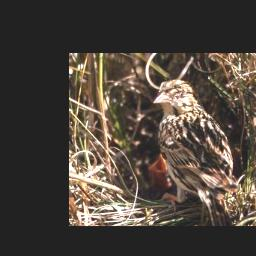Sparrow: (151, 79, 240, 226)
